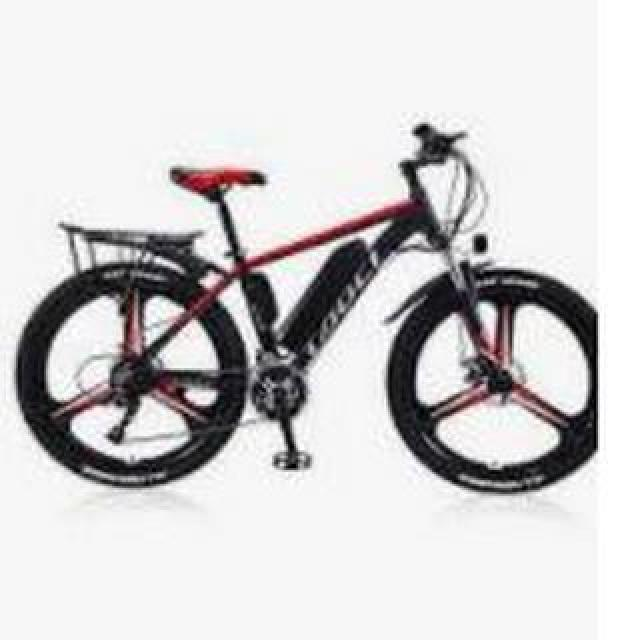Person: (12, 126, 610, 502)
